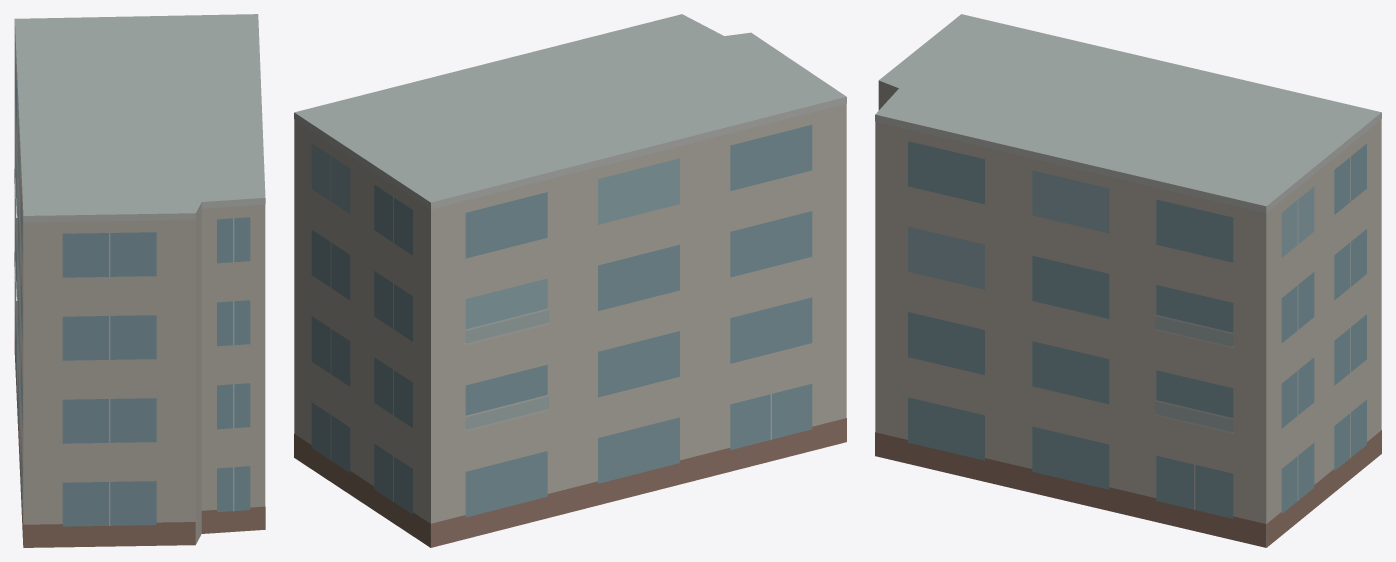
The model's file is survey-upis-32999698.glb.
The picture shows the model from 3 angles, left to right: view 1: azimuth 30°, elevation 25°; view 2: azimuth 150°, elevation 25°; view 3: azimuth 270°, elevation 25°; orthographic projection. The views are drawn at different scales.
Visible parts, largest first — view 1: survey-upis-32999698.tmp; view 2: survey-upis-32999698.tmp; view 3: survey-upis-32999698.tmp.
Boxes of the visible parts, x1=… form: survey-upis-32999698.tmp: x1=14, y1=14, x2=265, y2=547; survey-upis-32999698.tmp: x1=294, y1=14, x2=846, y2=547; survey-upis-32999698.tmp: x1=875, y1=14, x2=1381, y2=547.
Size of the model in its own units: 14.74 by 12.2 by 16.41.
